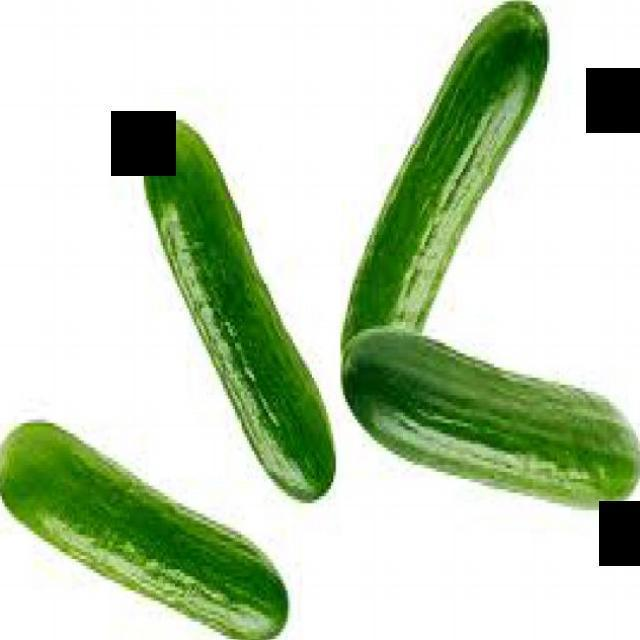cucumber: (141, 112, 339, 504), (342, 2, 556, 350), (1, 416, 292, 640), (340, 326, 640, 514)
